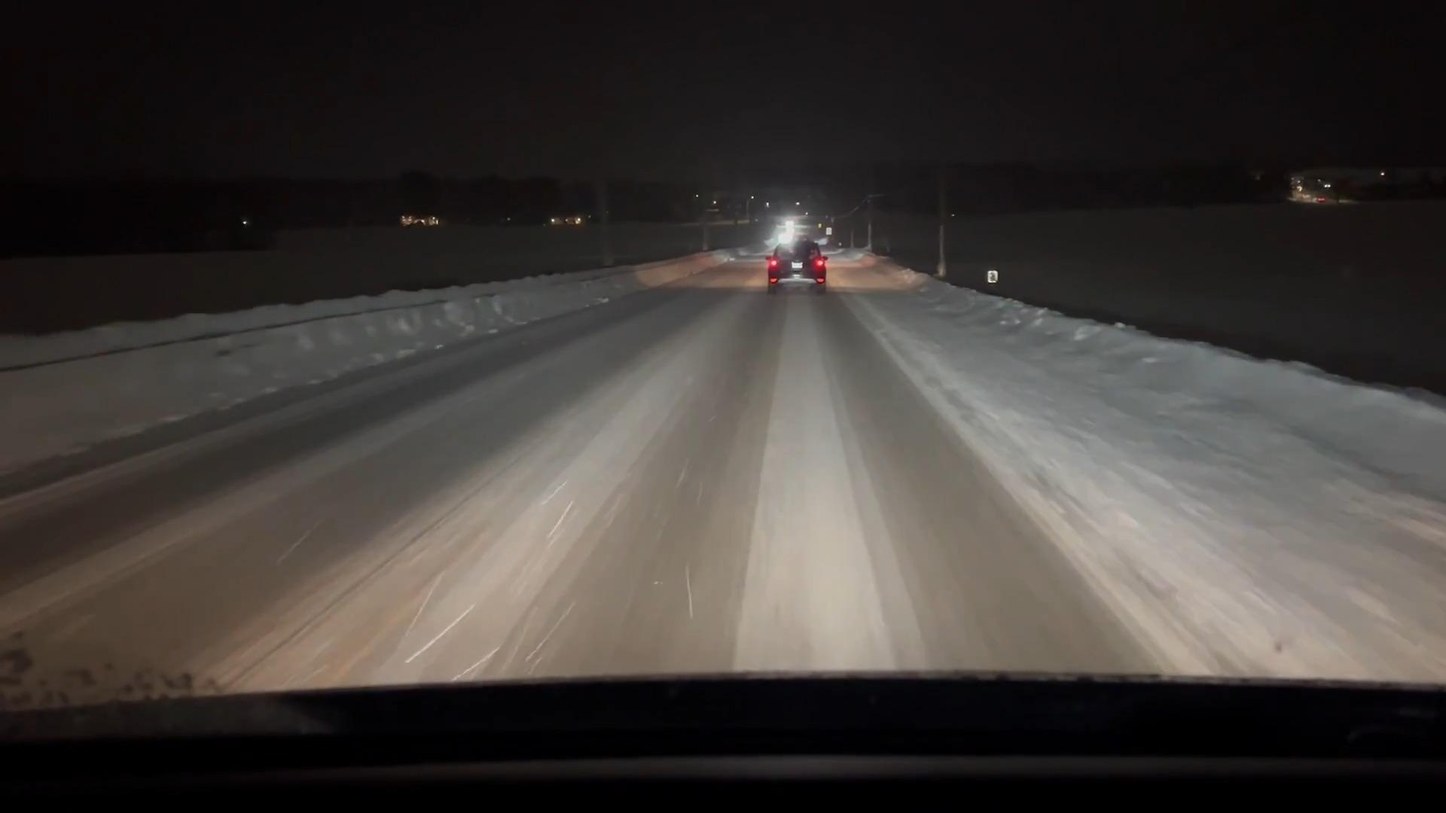Snow: (0, 249, 1445, 698)
